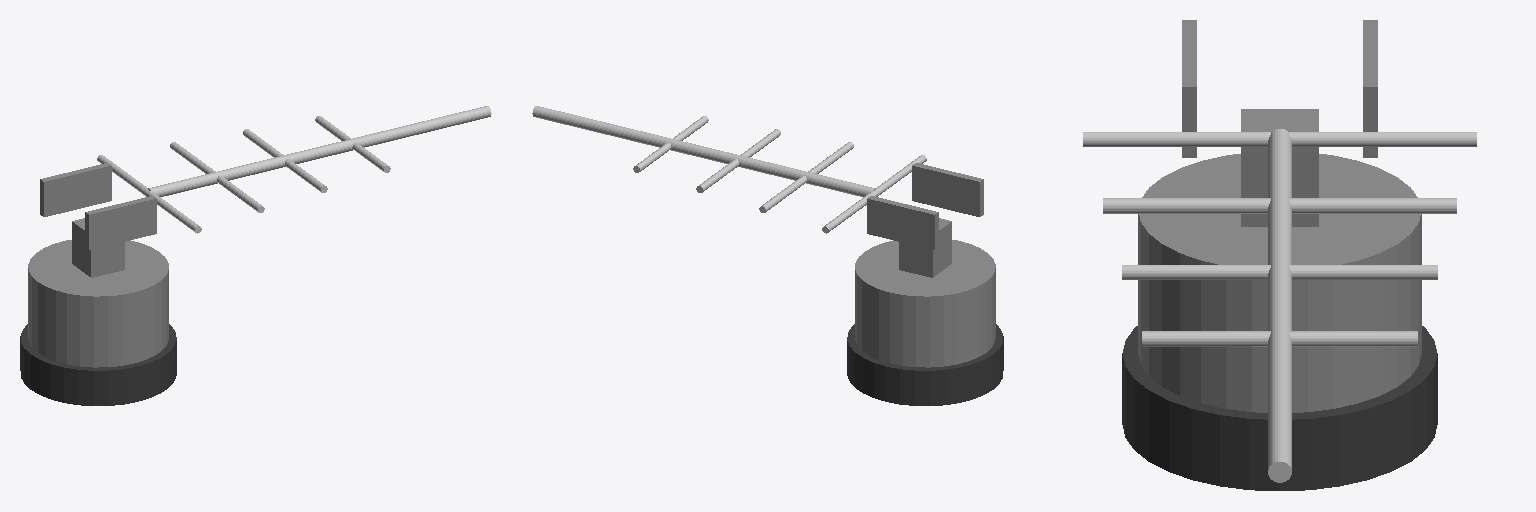
robot.urdf — antenna_tracker:
<?xml version="1.0"?>
<robot name="antenna_tracker">

  <!-- Material Definitions -->
  <material name="dark_gray"><color rgba="0.3 0.3 0.3 1.0"/></material>
  <material name="gray"><color rgba="0.6 0.6 0.6 1.0"/></material>
  <material name="light_gray"><color rgba="0.8 0.8 0.8 1.0"/></material>

  <!-- Base (fixed to world) -->
  <link name="base_link">
    <inertial>
      <mass value="2.0"/>
      <origin xyz="0 0 0.05" rpy="0 0 0"/>
      <inertia ixx="0.01" ixy="0.0" ixz="0.0" iyy="0.01" iyz="0.0" izz="0.02"/>
    </inertial>
    <visual>
      <geometry><cylinder length="0.1" radius="0.2"/></geometry>
      <origin xyz="0 0 0.05" rpy="0 0 0"/>
      <material name="dark_gray"/>
    </visual>
    <collision>
      <geometry><cylinder length="0.1" radius="0.2"/></geometry>
      <origin xyz="0 0 0.05" rpy="0 0 0"/>
    </collision>
  </link>

  <!-- Yaw joint -->
  <!-- THE FIX: Changed type from "revolute" to "continuous" -->
  <joint name="yaw_joint" type="continuous">
    <parent link="base_link"/>
    <child  link="yaw_rotator_link"/>
    <origin xyz="0 0 0.1" rpy="0 0 0"/>
    <axis  xyz="0 0 1"/>
    <!-- NOTE: A continuous joint does not have a <limit> tag. -->
    <!-- The effort and velocity are now defined inside the dynamics tag or are handled by the controller. -->
    <!-- For clarity and compatibility, we can add max effort/velocity to the controller call. -->
    <dynamics damping="0.1" friction="0.05"/>
  </joint>

  <!-- Yaw Rotator Link -->
  <link name="yaw_rotator_link">
    <inertial>
      <mass value="1.7"/>
      <origin xyz="0 0 0.12" rpy="0 0 0"/>
      <inertia ixx="0.009" ixy="0.0" ixz="0.0" iyy="0.009" iyz="0.0" izz="0.01"/>
    </inertial>
    <visual>
      <geometry><cylinder length="0.2" radius="0.18"/></geometry>
      <origin xyz="0 0 0.1" rpy="0 0 0"/>
      <material name="gray"/>
    </visual>
    <collision>
      <geometry><cylinder length="0.2" radius="0.18"/></geometry>
      <origin xyz="0 0 0.1" rpy="0 0 0"/>
    </collision>
    <visual>
        <geometry><box size="0.1 0.1 0.12"/></geometry>
        <origin xyz="0 0 0.26" rpy="0 0 0"/>
        <material name="gray"/>
    </visual>
    <collision>
        <geometry><box size="0.1 0.1 0.12"/></geometry>
        <origin xyz="0 0 0.26" rpy="0 0 0"/>
    </collision>
  </link>

  <!-- Pitch joint (This remains a limited revolute joint) -->
  <joint name="pitch_joint" type="revolute">
    <parent link="yaw_rotator_link"/>
    <child  link="pitch_mount_link"/>
    <origin xyz="0 0 0.32" rpy="0 0 0"/>
    <axis  xyz="0 -1 0"/>
    <limit lower="0" upper="1.57" effort="5.76" velocity="603.19"/>
    <dynamics damping="0.1" friction="0.05"/>
  </joint>

  <!-- Pitch Mount Link (U-shaped bracket) -->
  <link name="pitch_mount_link">
    <inertial>
      <mass value="0.5"/>
      <origin xyz="0 0 0.022" rpy="0 0 0"/>
      <inertia ixx="0.0032" ixy="0" ixz="0" iyy="0.0023" iyz="0" izz="0.0043"/>
    </inertial>
    <visual>
      <geometry><box size="0.2 0.02 0.1"/></geometry>
      <origin xyz="0 0.115 0.05" rpy="0 0 0"/>
      <material name="gray"/>
    </visual>
    <visual>
      <geometry><box size="0.2 0.02 0.1"/></geometry>
      <origin xyz="0 -0.115 0.05" rpy="0 0 0"/>
      <material name="gray"/>
    </visual>
  </link>

  <!-- Antenna is fixed to the pitch mount -->
  <joint name="antenna_joint" type="fixed">
    <parent link="pitch_mount_link"/>
    <child  link="antenna_link"/>
    <origin xyz="0.15 0 0.05" rpy="0 0 0"/>
  </joint>

  <!-- Antenna Link (Yagi) -->
  <link name="antenna_link">
    <inertial>
      <mass value="1.0"/>
      <origin xyz="0.405 0 0" rpy="0 0 0"/>
      <inertia ixx="0.01" ixy="0.0" ixz="0.0" iyy="0.1" iyz="0.0" izz="0.1"/>
    </inertial>
    <visual name="boom">
      <geometry><cylinder length="1.0" radius="0.015"/></geometry>
      <origin xyz="0.5 0 0" rpy="0 1.5708 0"/>
      <material name="light_gray"/>
    </visual>
    <visual>
      <geometry><cylinder length="0.5" radius="0.01"/></geometry>
      <origin xyz="0.0 0 0" rpy="1.5708 0 0"/>
      <material name="light_gray"/>
    </visual>
    <visual>
      <geometry><cylinder length="0.45" radius="0.01"/></geometry>
      <origin xyz="0.2 0 0" rpy="1.5708 0 0"/>
      <material name="light_gray"/>
    </visual>
    <visual>
      <geometry><cylinder length="0.4" radius="0.01"/></geometry>
      <origin xyz="0.4 0 0" rpy="1.5708 0 0"/>
      <material name="light_gray"/>
    </visual>
    <visual>
      <geometry><cylinder length="0.35" radius="0.01"/></geometry>
      <origin xyz="0.6 0 0" rpy="1.5708 0 0"/>
      <material name="light_gray"/>
    </visual>
    <collision>
        <origin xyz="0.5 0 0" rpy="0 1.5708 0"/>
        <geometry><cylinder length="1.0" radius="0.015"/></geometry>
    </collision>
  </link>

</robot>

--- Render facts (derived) ---
The picture shows the robot from 3 angles, left to right: view 1: azimuth 30°, elevation 25°; view 2: azimuth 150°, elevation 25°; view 3: azimuth 270°, elevation 25°; orthographic projection.
Model antenna_tracker with 4 links and 3 joints (1 revolute, 1 continuous, 1 fixed), rooted at base_link, posed every joint at zero.
Visible links, largest first — view 1: yaw_rotator_link, antenna_link, base_link, pitch_mount_link; view 2: yaw_rotator_link, antenna_link, base_link, pitch_mount_link; view 3: yaw_rotator_link, antenna_link, base_link, pitch_mount_link.
Boxes of the visible links, x1,y1,x2,y2 form: yaw_rotator_link: (28, 218, 168, 367); antenna_link: (97, 106, 491, 233); base_link: (20, 324, 176, 405); pitch_mount_link: (40, 163, 156, 249); yaw_rotator_link: (855, 218, 995, 367); antenna_link: (532, 106, 926, 233); base_link: (847, 324, 1003, 405); pitch_mount_link: (867, 163, 983, 249); yaw_rotator_link: (1138, 109, 1421, 412); antenna_link: (1083, 129, 1476, 482); base_link: (1122, 326, 1437, 490); pitch_mount_link: (1182, 20, 1377, 157).
Bounding box of the posed robot: 1.35 × 0.5 × 0.52 m (x, y, z).
Geometry: primitives only (box / cylinder / sphere), no mesh files.
